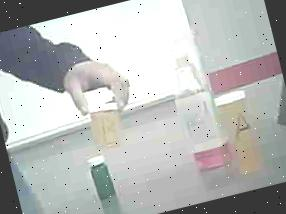Bottle A: (212, 82, 278, 181)
Bottle B: (70, 88, 141, 155)
Bottle C: (83, 150, 123, 206)
hazard: (148, 18, 234, 190)
